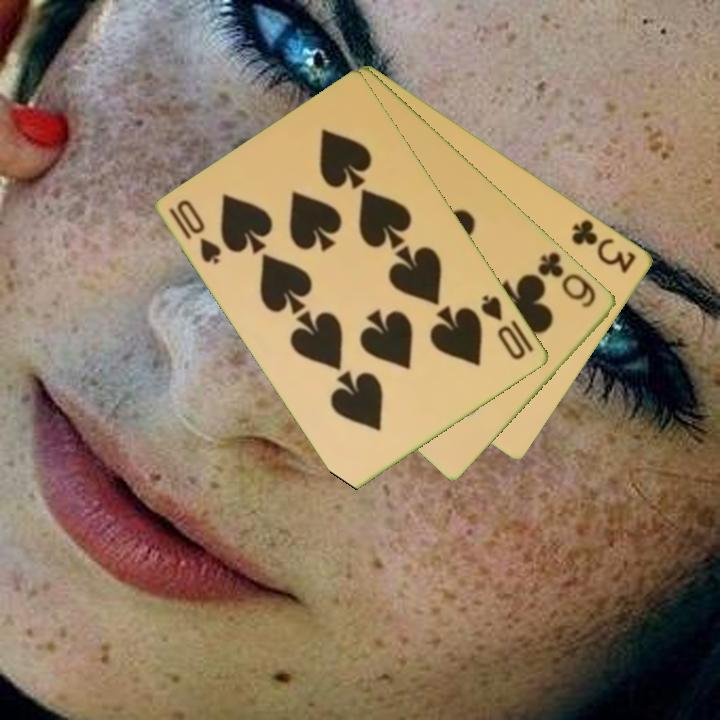10s: (477, 291, 537, 363), (165, 196, 225, 267)
3c: (568, 215, 640, 276)
6c: (534, 248, 600, 311)
